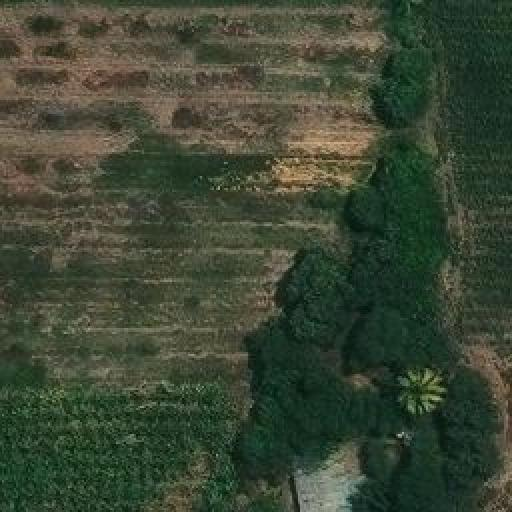manzanas: (284, 444, 365, 510)
